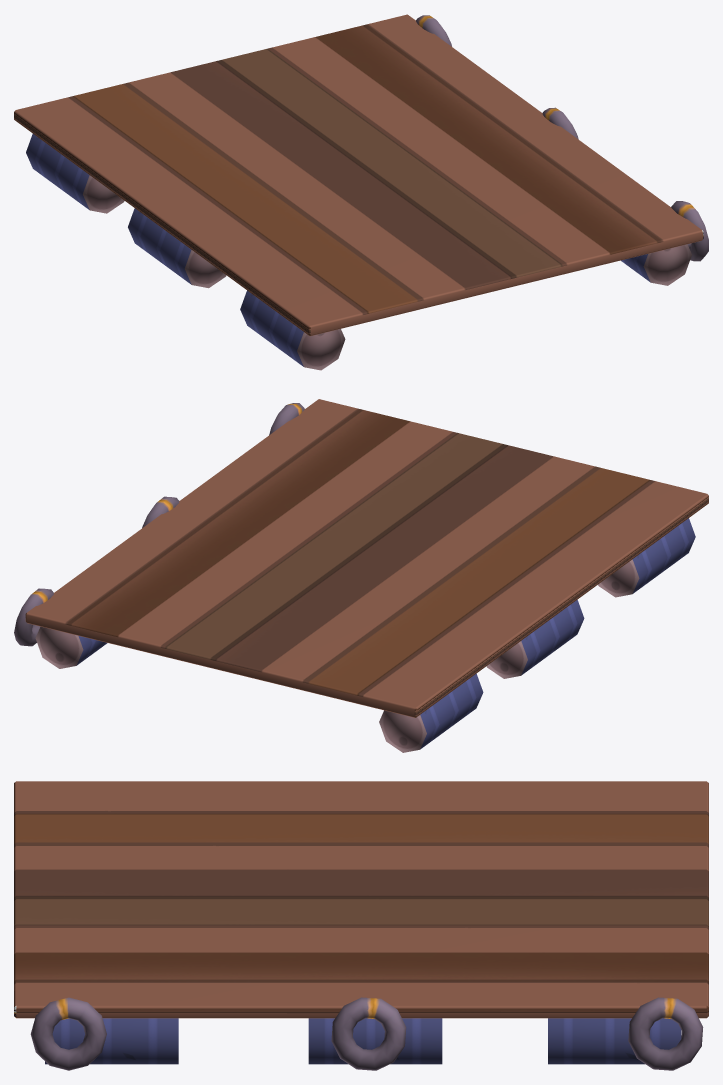
Rendered from raft_1.fbx.
The picture shows the model from 3 angles, top to bottom: view 1: azimuth 30°, elevation 25°; view 2: azimuth 150°, elevation 25°; view 3: azimuth 270°, elevation 25°; orthographic projection. The views are drawn at different scales.
Parts seen in each view (by area): view 1: mesh_raft1; view 2: mesh_raft1; view 3: mesh_raft1.
Boxes of the visible parts, x1,y1,x2,y2 form: mesh_raft1: [14, 14, 708, 370]; mesh_raft1: [14, 399, 708, 752]; mesh_raft1: [14, 781, 708, 1070].
Size of the model in its own units: 0.4949 by 0.0786 by 0.6118.
